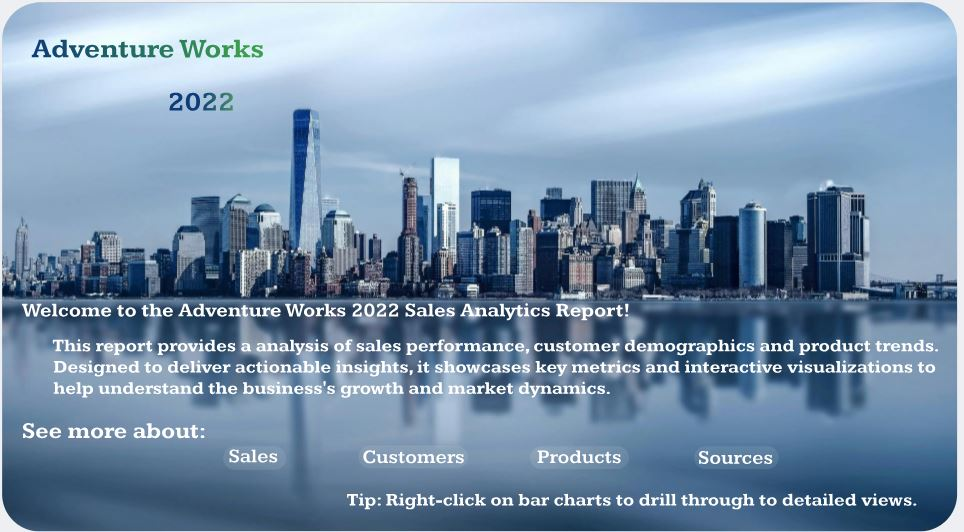

The dashboard page shown, as its layout file describes it:
{"tool":"powerbi","page":{"name":"LP","canvas":[1280,720],"ordinal":0},"visuals":[{"type":"actionButton","box":[297.8,590,83.3,33.3],"z":1000},{"type":"actionButton","box":[472.2,586.7,153.3,40],"z":2000},{"type":"actionButton","box":[707.8,586.7,131.1,40],"z":3000},{"type":"actionButton","box":[918.9,586.7,110,34.4],"z":5000}]}

Visuals, with their boxes in screenshot pixels (x1, y1, x2, y2), scaled from the page's 1280x720 canvas onto the 964x532 screenshot:
actionButton: x1=224 y1=436 x2=287 y2=461
actionButton: x1=356 y1=434 x2=471 y2=463
actionButton: x1=533 y1=434 x2=632 y2=463
actionButton: x1=692 y1=434 x2=775 y2=459
